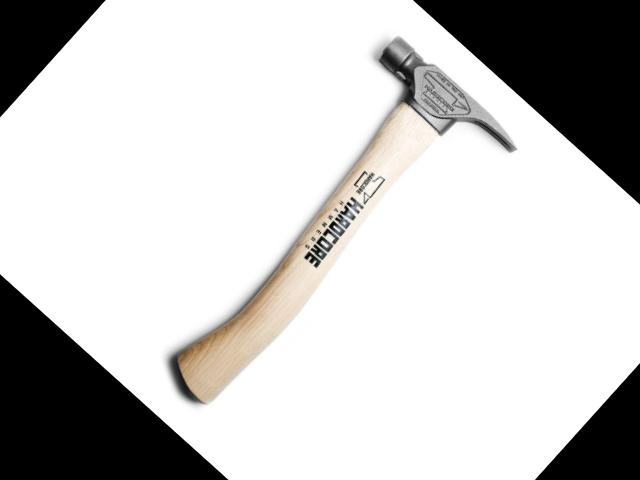hammer: (118, 28, 525, 452)
